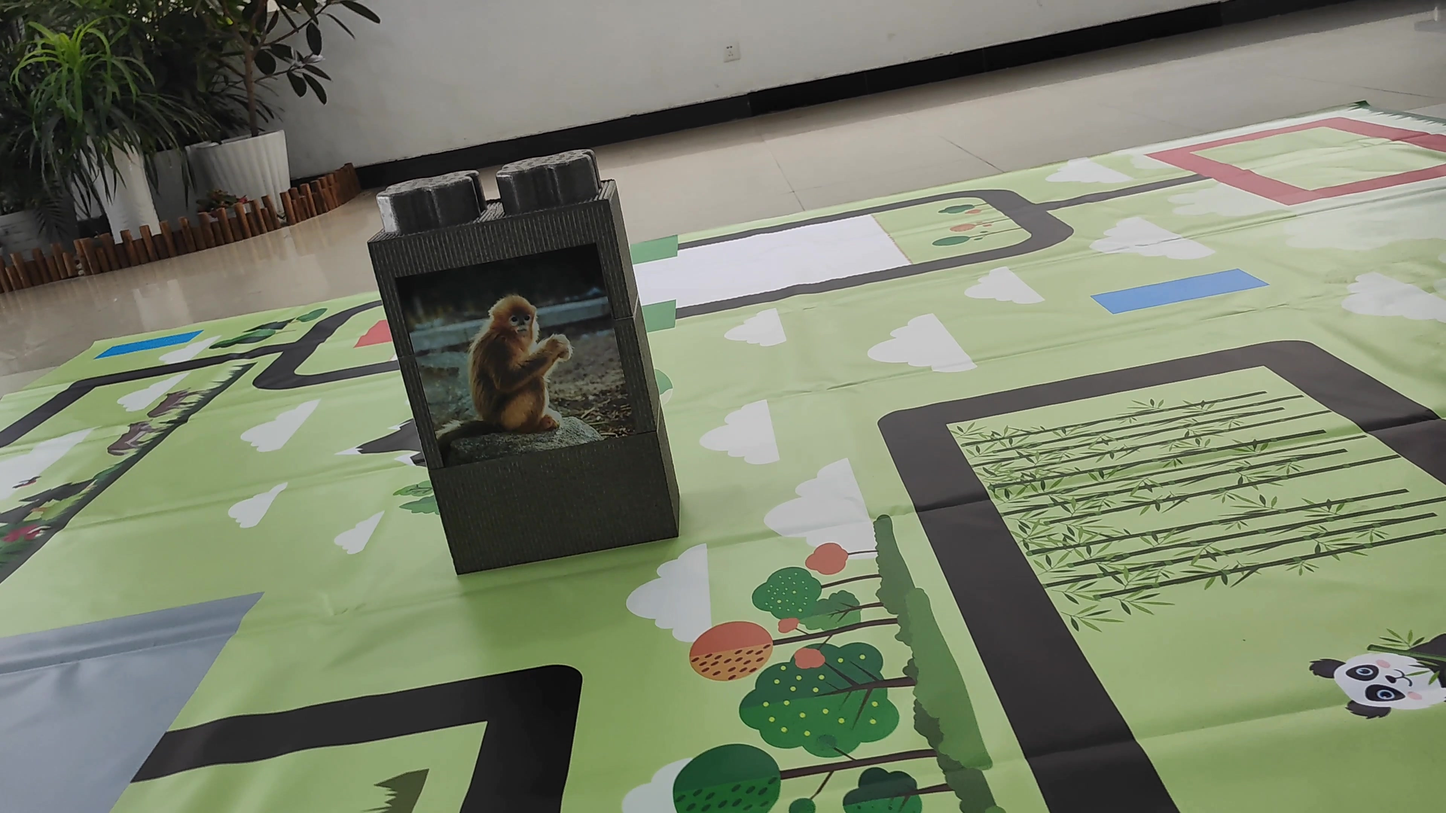monkey: (404, 261, 619, 466)
